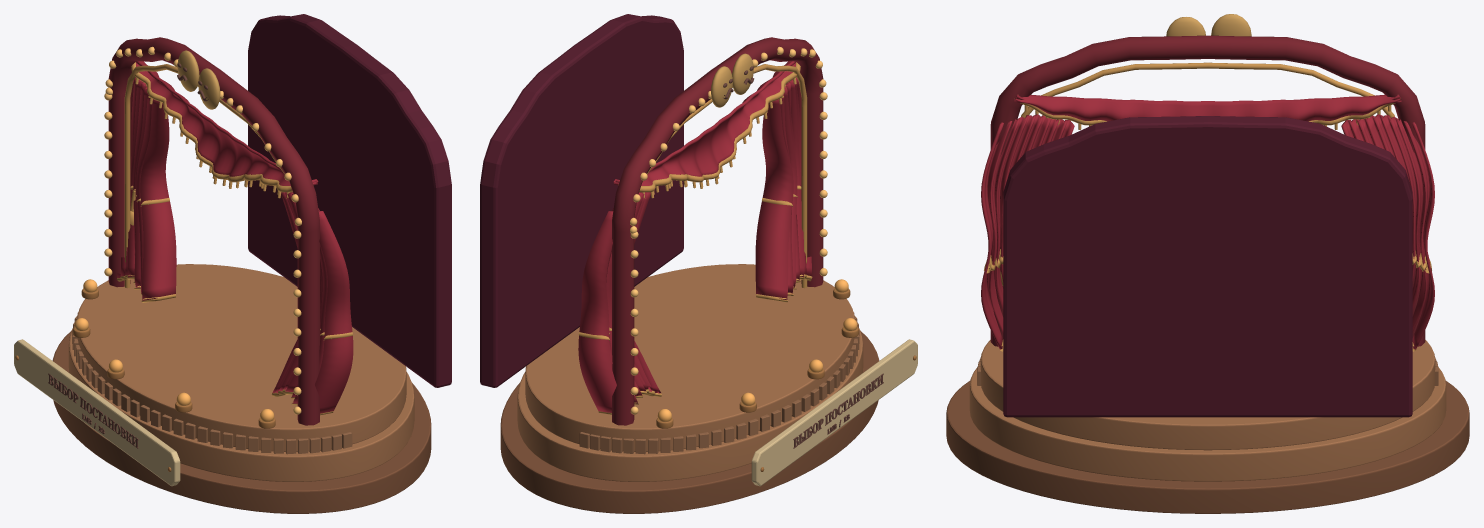
File: SM_Hub_SelectionStand.fbx
3 renders of one model, left to right at view 1: azimuth 30°, elevation 25°; view 2: azimuth 150°, elevation 25°; view 3: azimuth 270°, elevation 25°, orthographic. The views are drawn at different scales.
Parts seen in each view (by area): view 1: Stepped semicircle.003_Baked; view 2: Stepped semicircle.003_Baked; view 3: Stepped semicircle.003_Baked.
Part boxes in pixels (<box>): Stepped semicircle.003_Baked: <box>14,14,451,513</box>; Stepped semicircle.003_Baked: <box>480,14,917,513</box>; Stepped semicircle.003_Baked: <box>946,14,1469,513</box>.
Size of the model in its own units: 238 by 336 by 284.
